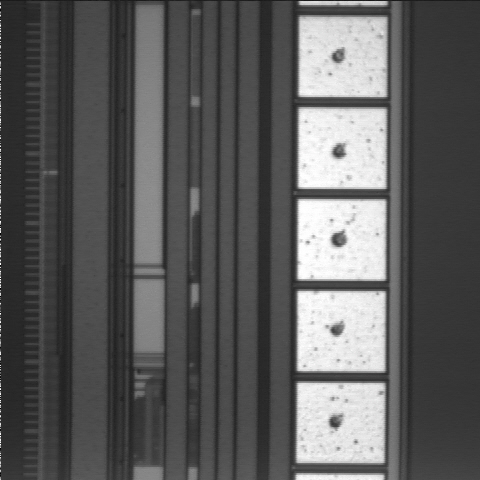pad: (297, 199, 386, 281), (298, 107, 386, 189), (296, 383, 385, 463), (299, 17, 387, 97), (297, 291, 385, 371)
